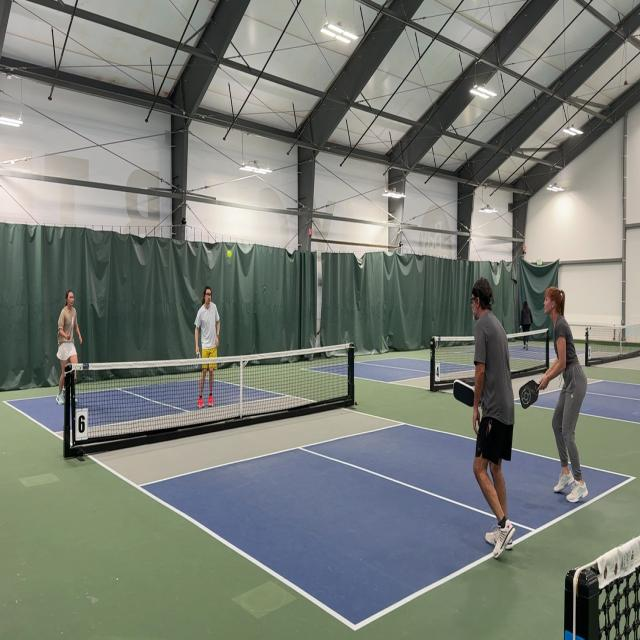ball: (226, 249, 232, 258)
